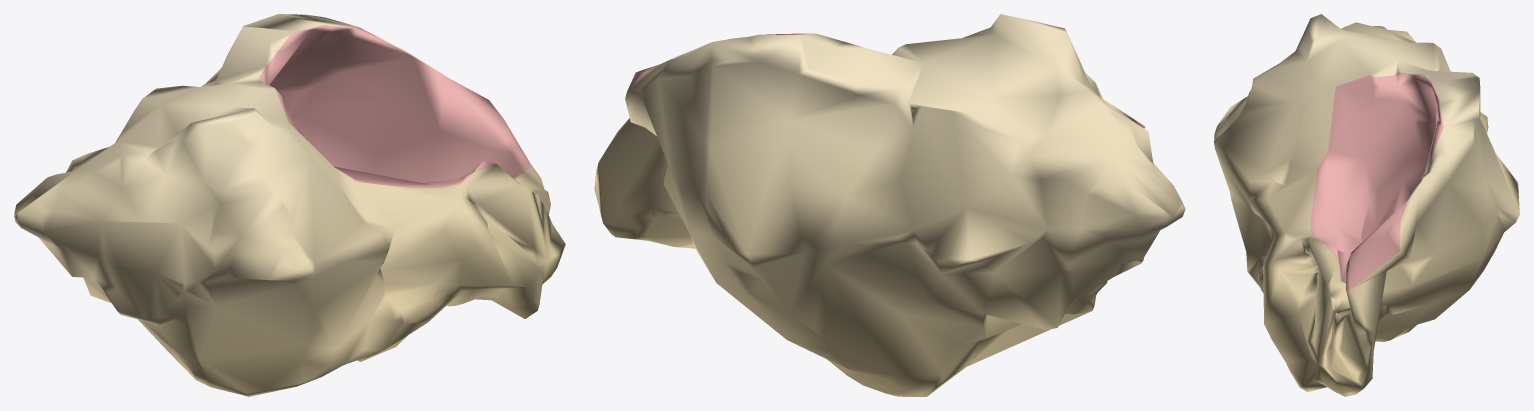
File: ShellTribute.fbx
3 renders of one model, left to right at view 1: azimuth 30°, elevation 25°; view 2: azimuth 150°, elevation 25°; view 3: azimuth 270°, elevation 25°, orthographic. The views are drawn at different scales.
Parts seen in each view (by area): view 1: sea_shell_low_poly; view 2: sea_shell_low_poly; view 3: sea_shell_low_poly.
Boxes of the visible parts, box(x1,y1,x2,y2) form: sea_shell_low_poly: box(14, 14, 565, 396); sea_shell_low_poly: box(594, 14, 1185, 396); sea_shell_low_poly: box(1214, 14, 1519, 396).
Size of the model in its own units: 1.51 by 0.8371 by 0.8721.
